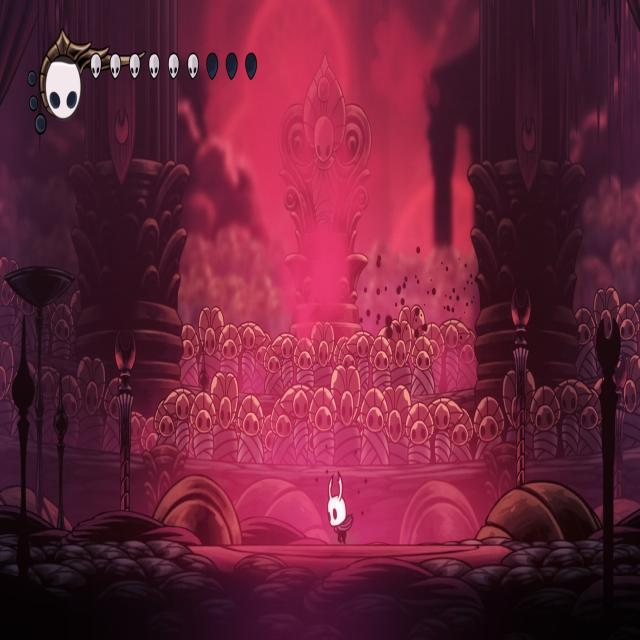Player: (326, 469, 356, 549)
